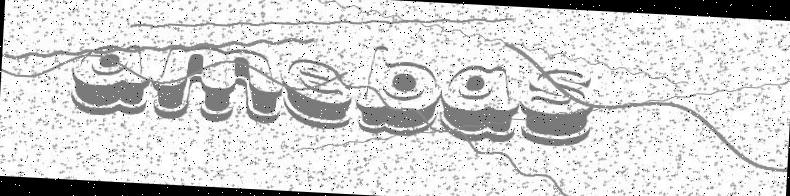a: (439, 62, 523, 145), (67, 40, 151, 118)
b: (352, 42, 444, 139)
e: (275, 57, 355, 131)
m: (152, 43, 285, 126)
s: (518, 67, 595, 149)
